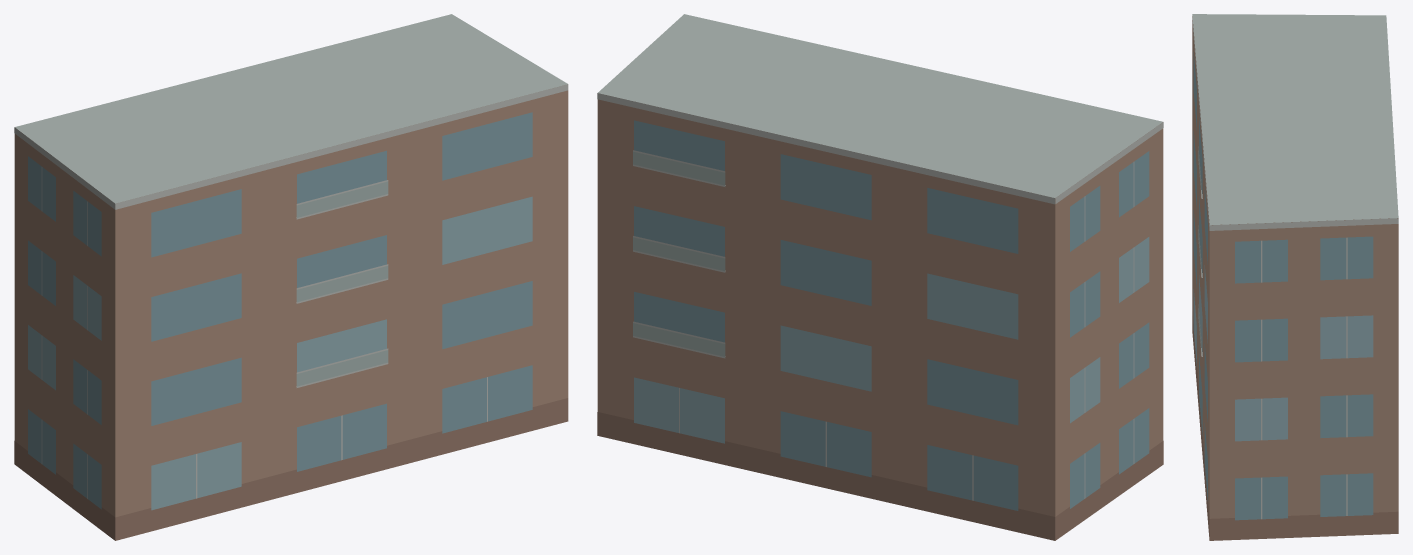
The model's file is survey-upis-32908841.glb.
The picture shows the model from 3 angles, left to right: view 1: azimuth 30°, elevation 25°; view 2: azimuth 150°, elevation 25°; view 3: azimuth 270°, elevation 25°; orthographic projection. The views are drawn at different scales.
Visible parts, largest first — view 1: survey-upis-32908841.tmp; view 2: survey-upis-32908841.tmp; view 3: survey-upis-32908841.tmp.
Part boxes in pixels (bbox=[...]): survey-upis-32908841.tmp: bbox=[14, 14, 568, 540]; survey-upis-32908841.tmp: bbox=[597, 14, 1163, 540]; survey-upis-32908841.tmp: bbox=[1192, 14, 1398, 540].
Size of the model in its own units: 19.02 by 13.25 by 7.86.
